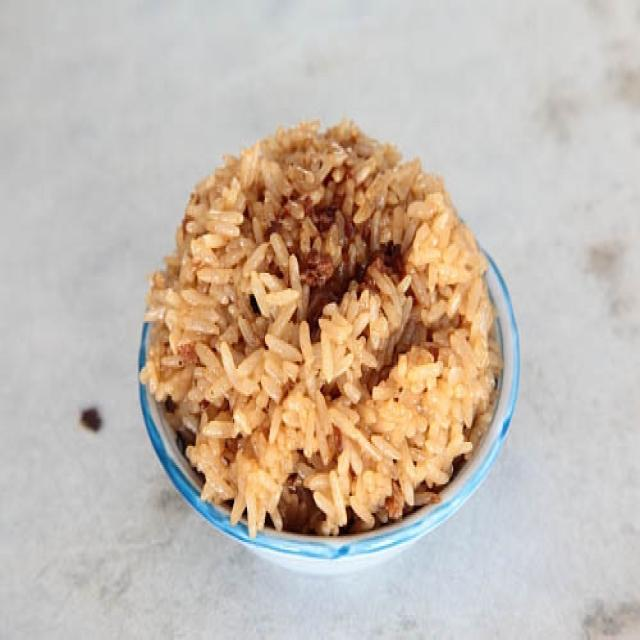米饭主食: (122, 106, 521, 574)
